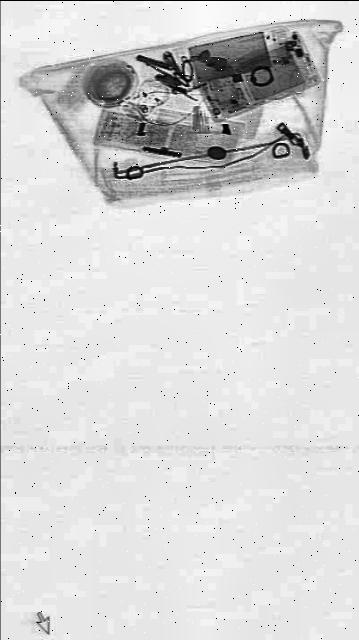Scissors: (165, 42, 198, 92)
